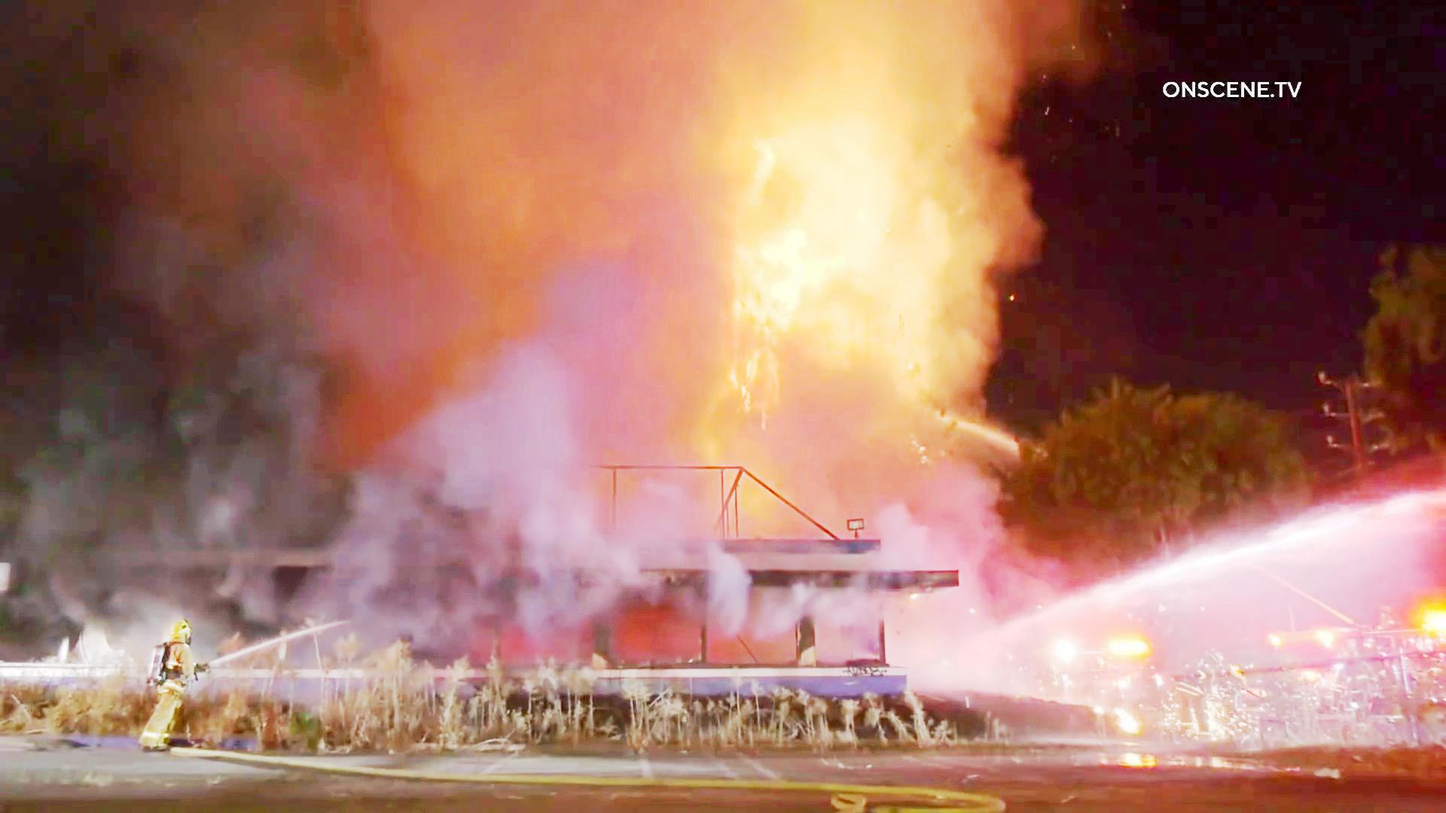fire: (722, 115, 891, 309)
smoke: (24, 2, 652, 559), (0, 219, 296, 627), (296, 333, 567, 643)
